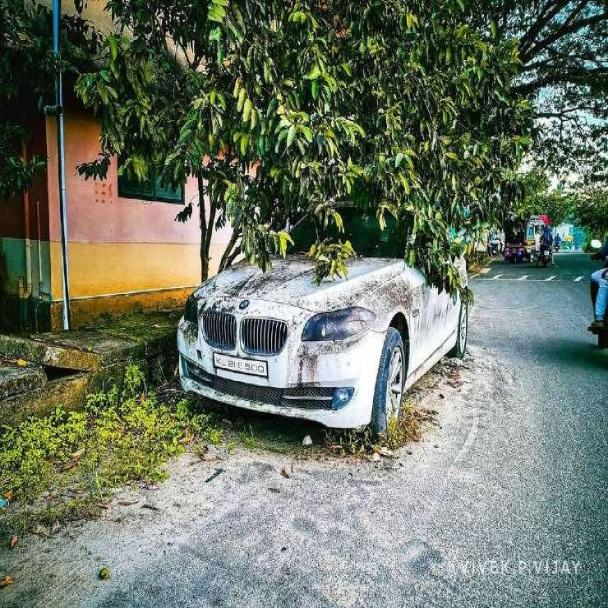Mobil: (178, 193, 469, 432)
